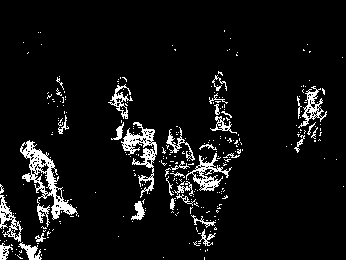person: (17, 140, 80, 240), (179, 142, 229, 248), (119, 122, 155, 218), (161, 123, 194, 216), (107, 76, 134, 143), (208, 69, 233, 131)
